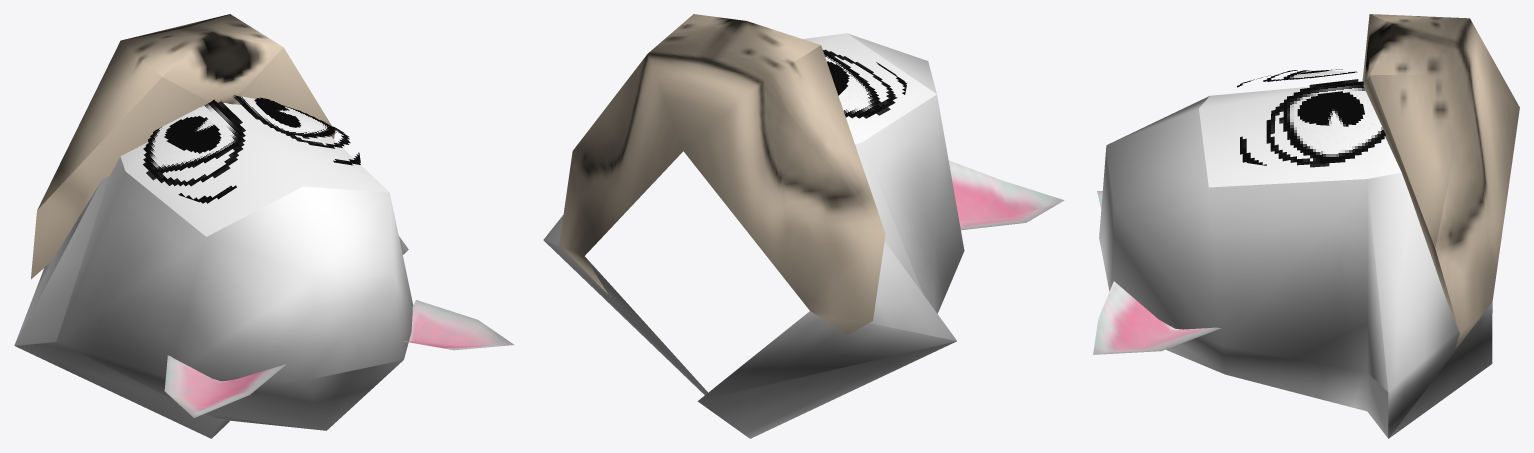
The model's file is cll_250.glb.
3 renders of one model, left to right at view 1: azimuth 30°, elevation 25°; view 2: azimuth 150°, elevation 25°; view 3: azimuth 270°, elevation 25°, orthographic. The views are drawn at different scales.
Visible parts, largest first — view 1: head-long, muzzle-long-neutral, head-front-long, ears-long, eyes-long, joint_pupilL_long, joint_pupilR_long; view 2: muzzle-long-neutral, head-long, ears-long, head-front-long, eyes-long; view 3: head-long, muzzle-long-neutral, head-front-long, eyes-long, ears-long, joint_pupilR_long.
Part boxes in pixels (bbox=[...]): head-long: bbox=[14, 157, 413, 438]; muzzle-long-neutral: bbox=[31, 14, 334, 279]; head-front-long: bbox=[120, 103, 388, 236]; ears-long: bbox=[164, 300, 513, 417]; eyes-long: bbox=[143, 95, 360, 203]; joint_pupilL_long: bbox=[164, 115, 221, 153]; joint_pupilR_long: bbox=[254, 97, 300, 127]; muzzle-long-neutral: bbox=[559, 14, 885, 334]; head-long: bbox=[543, 33, 964, 438]; ears-long: bbox=[948, 160, 1064, 230]; head-front-long: bbox=[803, 33, 936, 144]; eyes-long: bbox=[823, 49, 906, 118]; head-long: bbox=[1099, 96, 1492, 438]; muzzle-long-neutral: bbox=[1362, 14, 1519, 350]; head-front-long: bbox=[1199, 86, 1401, 187]; eyes-long: bbox=[1237, 70, 1385, 167]; ears-long: bbox=[1093, 191, 1221, 354]; joint_pupilR_long: bbox=[1297, 91, 1364, 126].
Bounding box in the file's own units: 1.58 × 1.53 × 1.43.
Materials: 5 (5 with a texture image).
